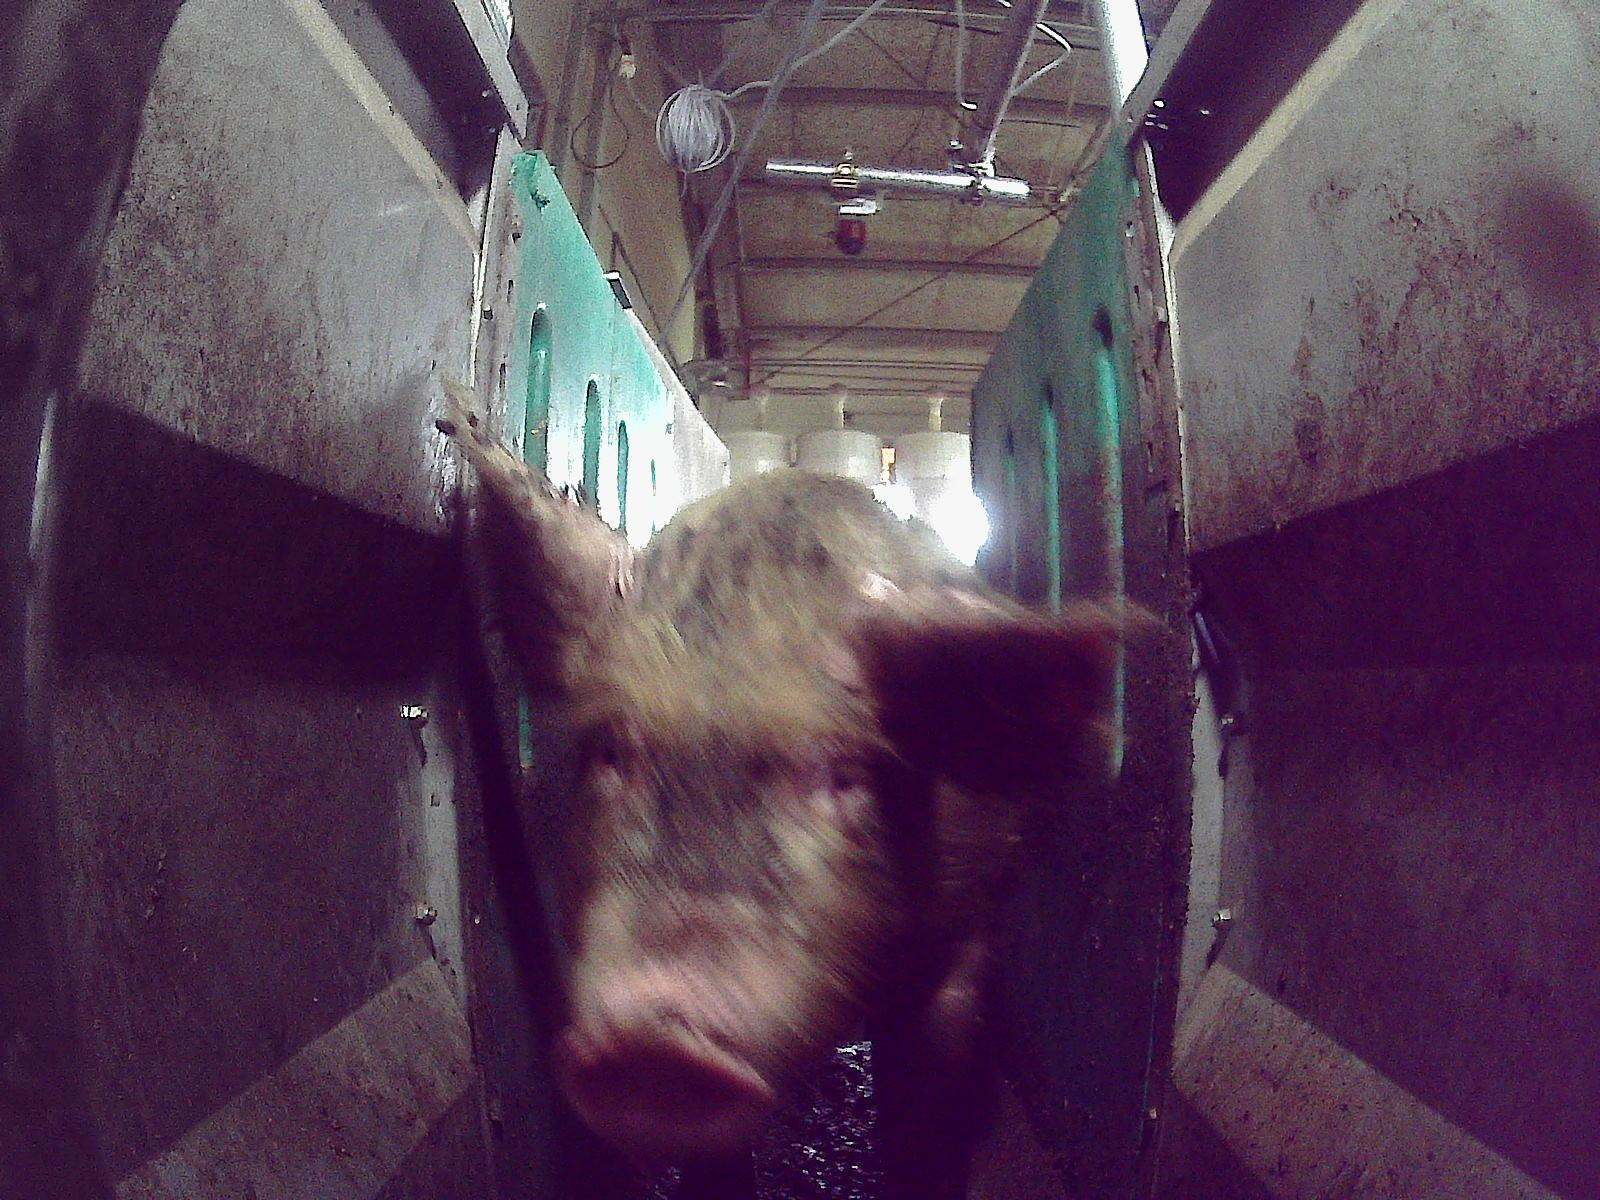Face: (547, 557, 943, 1161)
